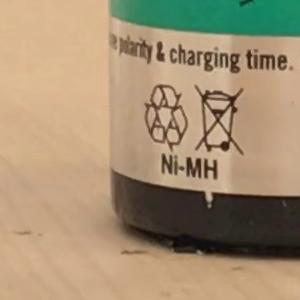keyword: (152, 149, 227, 184)
